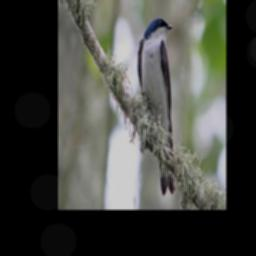Swallow: (137, 15, 178, 197)
